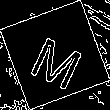M_NE: (24, 23, 86, 87)
